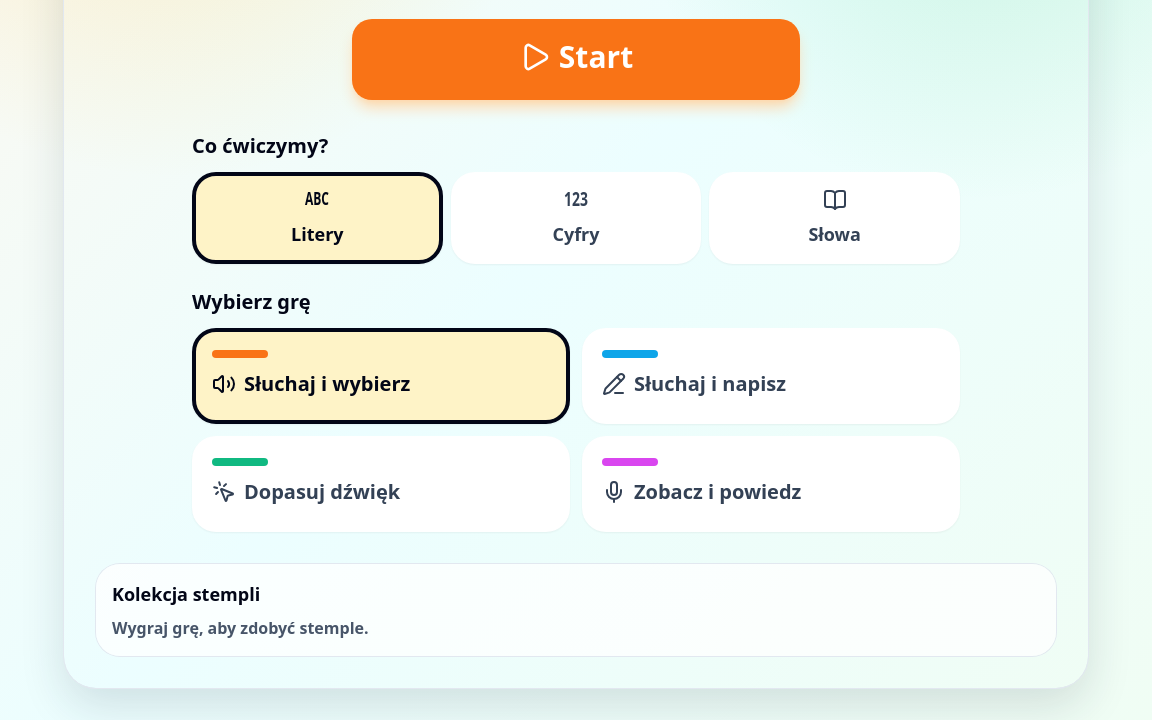
App › previews a sound before submitting it on the see letter screen
(page scrolled)
Click the button with aria-label "zobacz literę, wybierz dźwięk" at coordinates (381, 484), box [192,436,570,532]
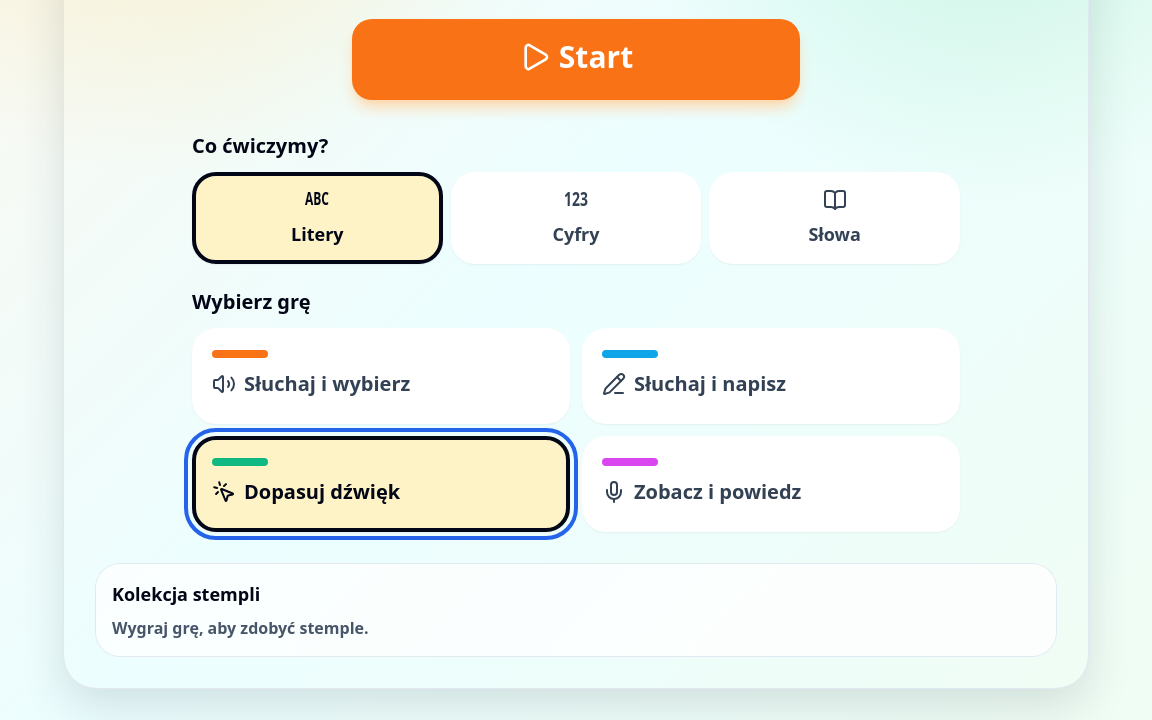
Click the button "Start" at coordinates (576, 60), box [352,19,800,100]
(page scrolled)
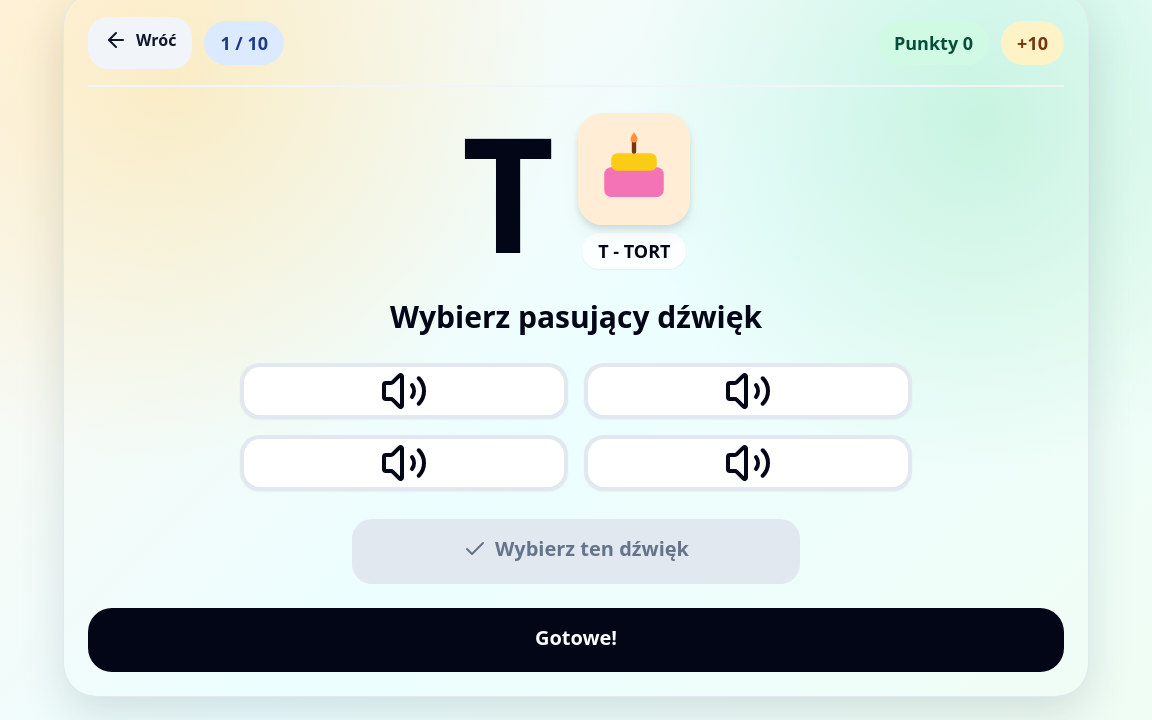
Click the button named "odtwórz dźwięk 1" at coordinates (404, 391), box [240,363,568,419]
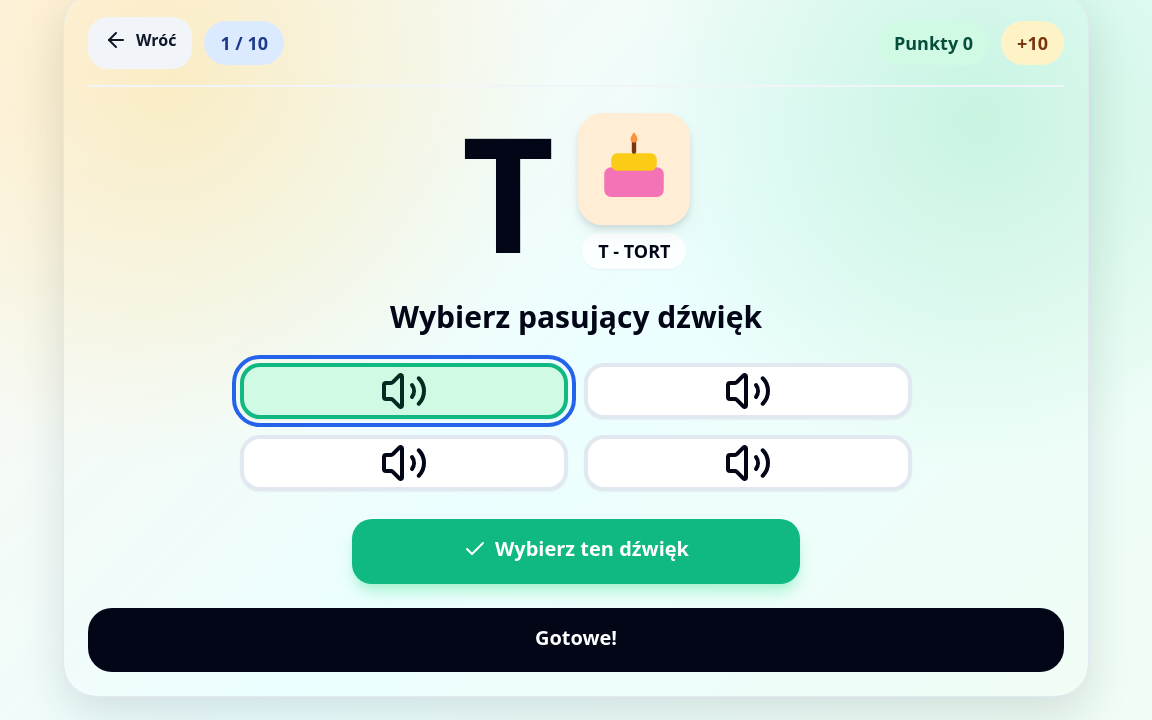
Result: the text "1 / 10" is shown at [204,21,284,65]
Result: the button "Wybierz ten dźwięk" is enabled at [352,519,800,584]
